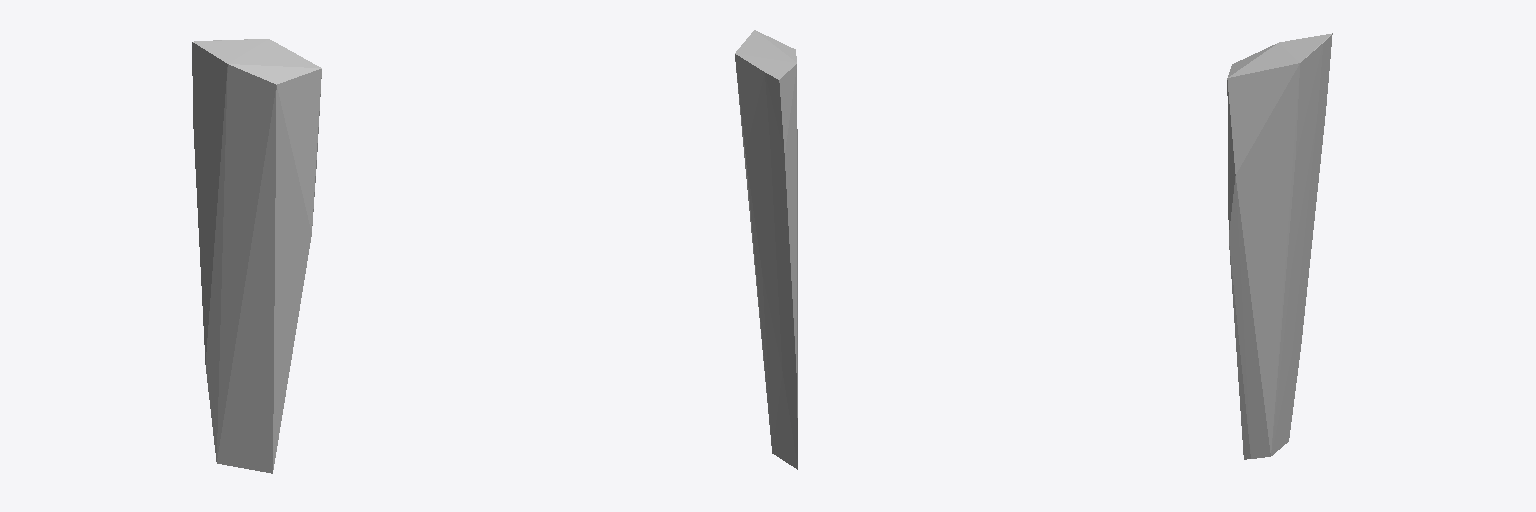
Rendered from trash_bin_collision_56.obj.
The picture shows the model from 3 angles: view 1: azimuth 30°, elevation 25°; view 2: azimuth 150°, elevation 25°; view 3: azimuth 270°, elevation 25°; orthographic projection.
Size of the model in its own units: 0.0126 by 0.0617 by 0.0144.